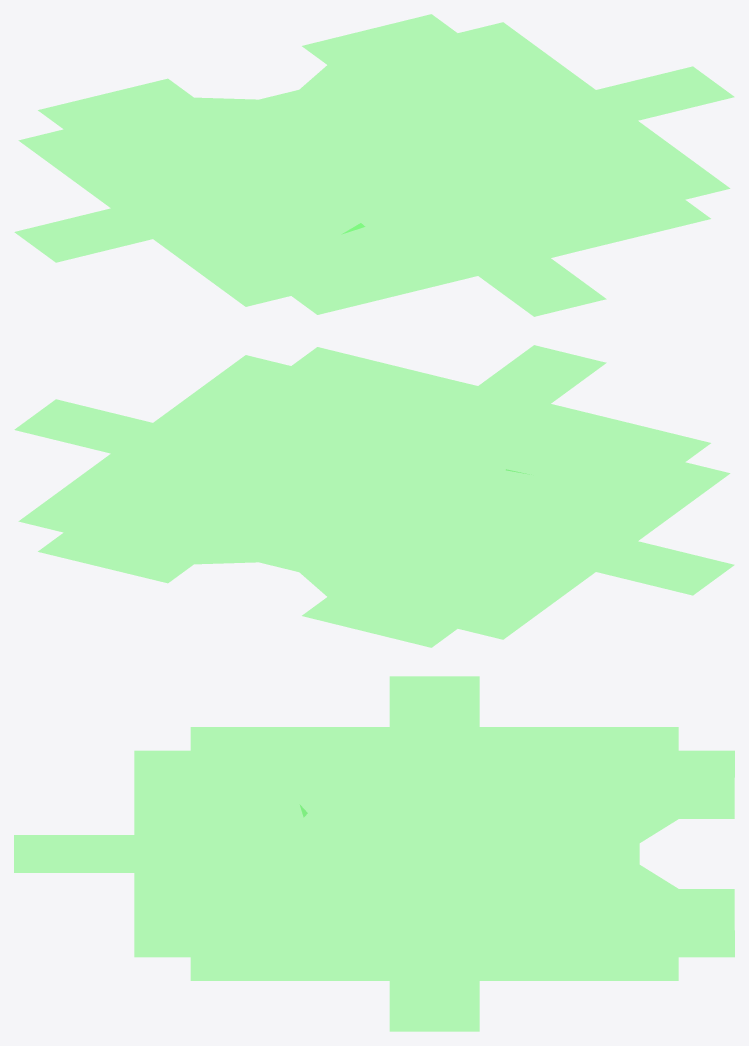
The model's file is s04b_td1-floor.glb.
3 views of the same model, one above another, from view 1: azimuth 30°, elevation 25°; view 2: azimuth 150°, elevation 25°; view 3: azimuth 270°, elevation 25° (orthographic). The views are drawn at different scales.
Visible parts, largest first — view 1: collision_floor-colonly; view 2: collision_floor-colonly; view 3: collision_floor-colonly.
Part boxes in pixels (x1=…): collision_floor-colonly: x1=15, y1=14, x2=733, y2=316; collision_floor-colonly: x1=15, y1=345, x2=733, y2=647; collision_floor-colonly: x1=14, y1=676, x2=734, y2=1031.
Size of the model in its own units: 56 by 0.248 by 47.99.
